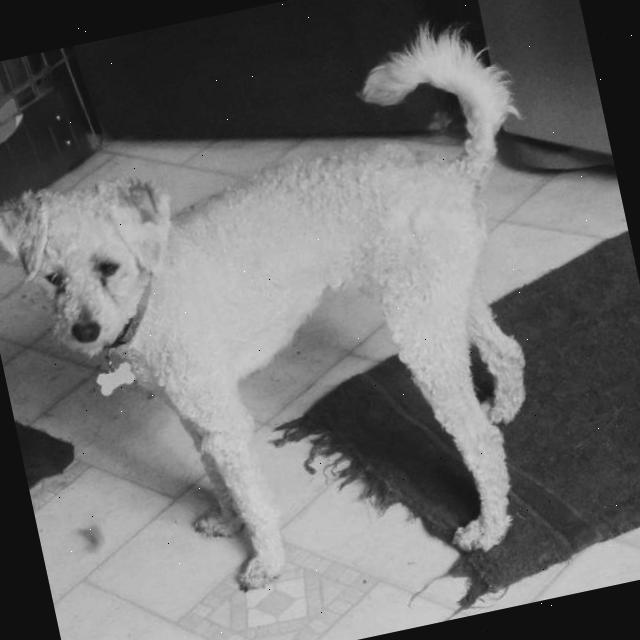Poodle_dog: (0, 150, 214, 382)
